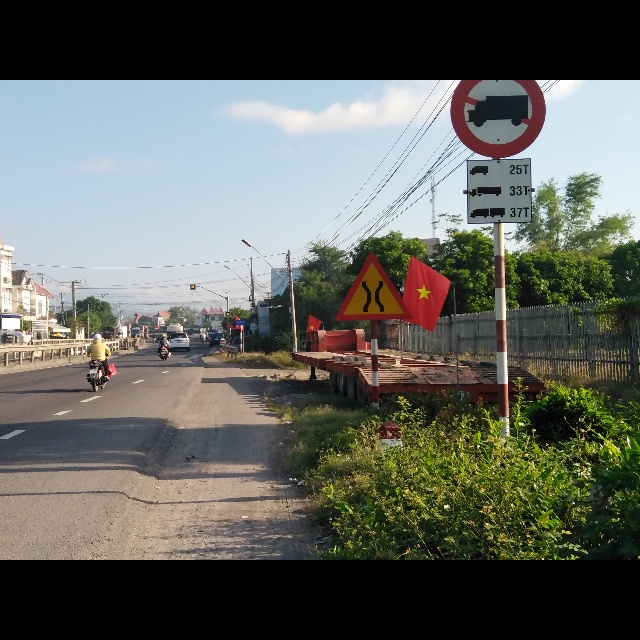Cấm xe tải: (450, 78, 546, 160)
Cầu hẹp: (333, 242, 412, 323)
